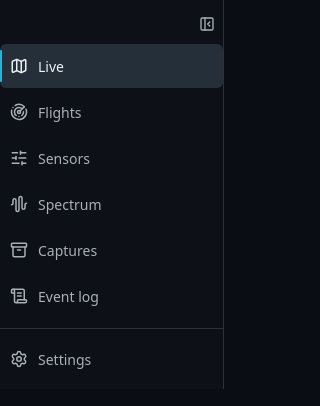
Test case: the desktop rail › collapses to icons, keeping every label in the accessible name
Click the button named "Collapse the navigation".
click(207, 24)  # box [191,8,223,40]
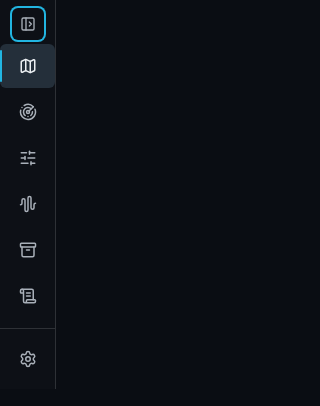
Expected: the link named "Spectrum" is shown, [0,182,55,226]
Now the button named "Expand the navigation" is shown, box [12,8,44,40]
